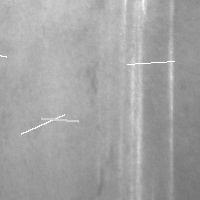scratches: (126, 5, 145, 191), (164, 1, 176, 191), (16, 110, 69, 139), (20, 0, 95, 12), (122, 56, 179, 69), (36, 113, 83, 126), (0, 32, 11, 62)
